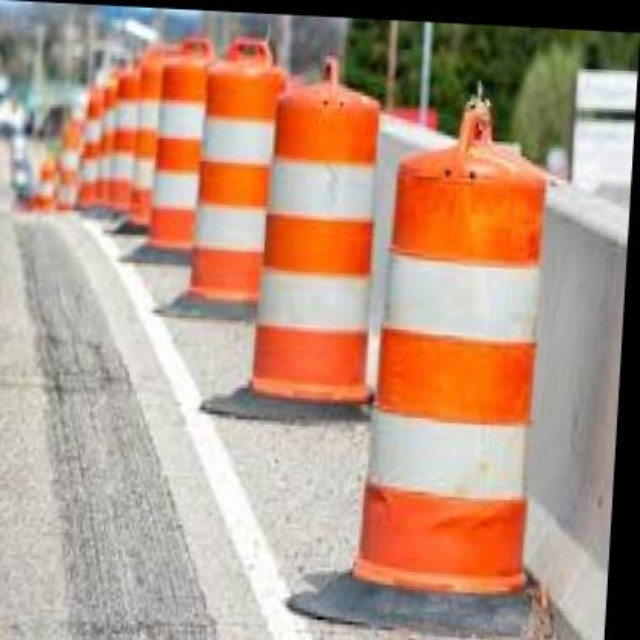obstacle: (367, 125, 561, 600), (260, 74, 387, 400), (198, 58, 271, 302)
